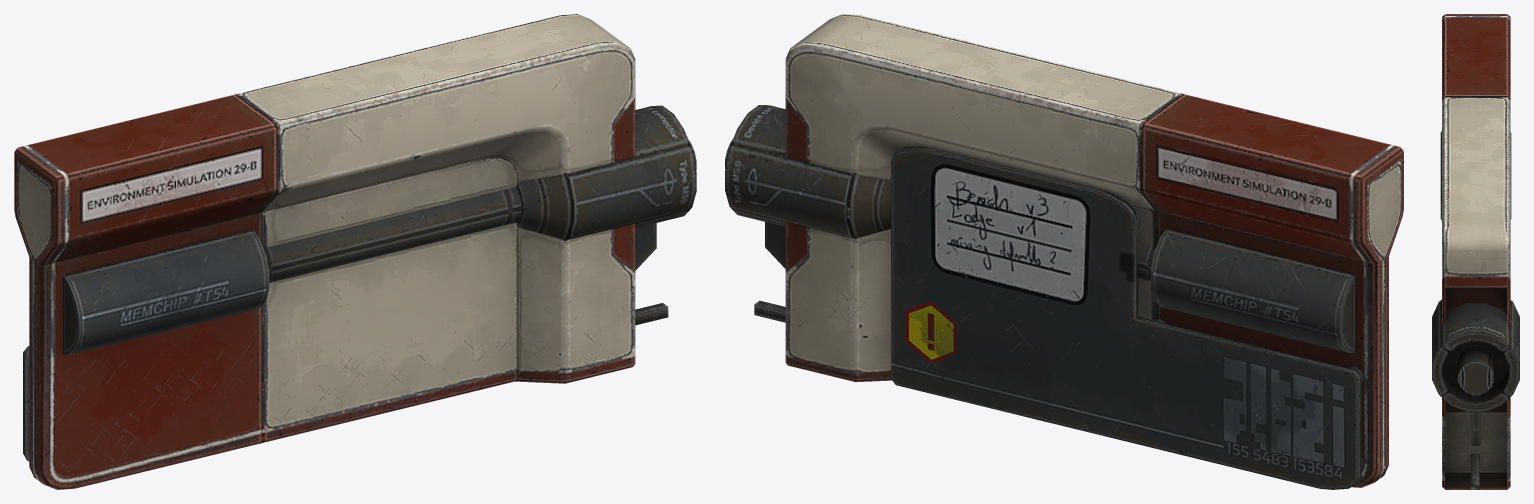
The model's file is chip_environment_storage.dae.
The picture shows the model from 3 angles, left to right: view 1: azimuth 30°, elevation 25°; view 2: azimuth 150°, elevation 25°; view 3: azimuth 270°, elevation 25°; orthographic projection. The views are drawn at different scales.
Parts seen in each view (by area): view 1: chip_env; view 2: chip_env; view 3: chip_env.
Part boxes in pixels (left/top/right/bottom): chip_env: left=14, top=14, right=696, bottom=489; chip_env: left=725, top=14, right=1403, bottom=489; chip_env: left=1432, top=14, right=1519, bottom=489.
Size of the model in its own units: 0.2943 by 0.1431 by 0.0443.
